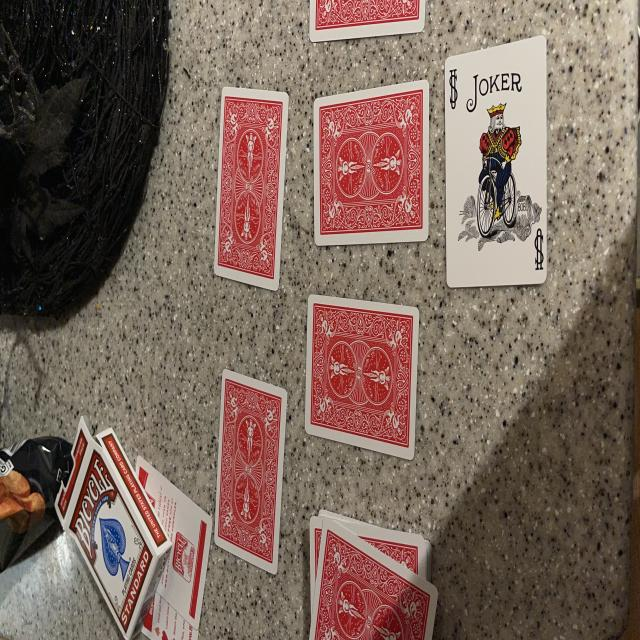Joker: (445, 36, 548, 287)
card back: (314, 82, 429, 244), (305, 295, 418, 459), (310, 520, 438, 640), (214, 87, 289, 291), (215, 371, 285, 573), (338, 518, 431, 582), (310, 0, 425, 42), (310, 518, 322, 611)
